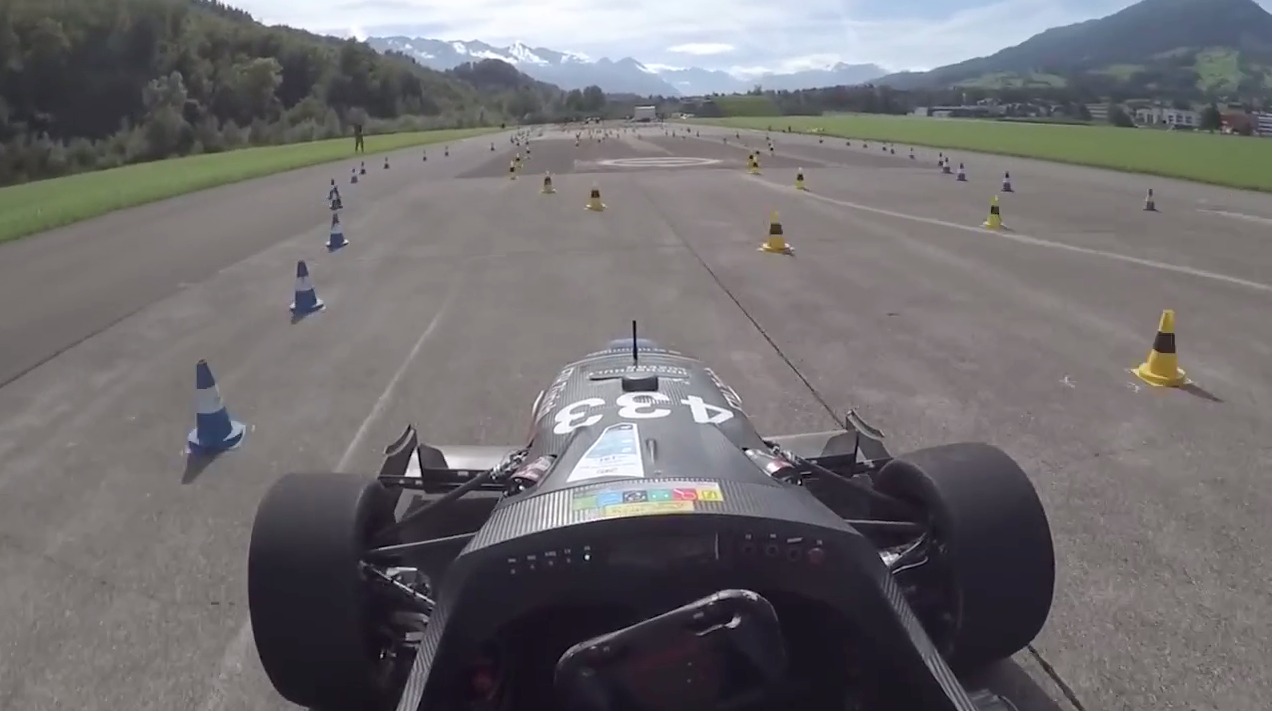lcone: (174, 353, 254, 457), (282, 257, 327, 319), (321, 210, 353, 251)
rcone: (1124, 304, 1195, 396), (756, 205, 796, 258), (977, 191, 1009, 232), (581, 177, 611, 214)
